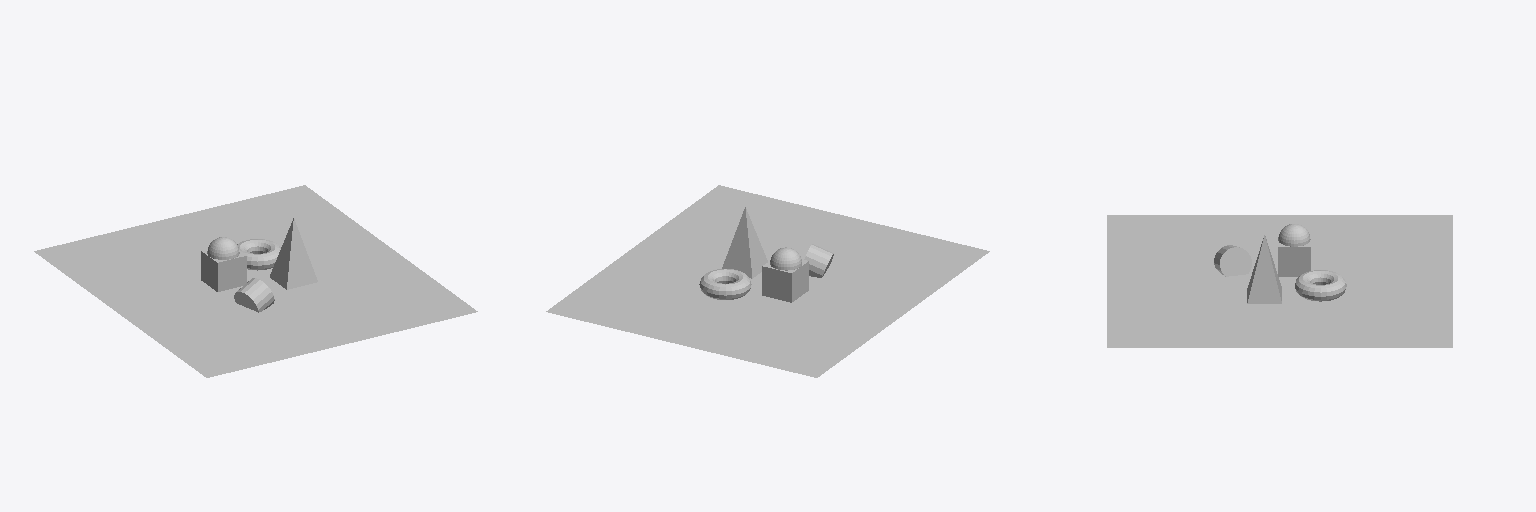
The model's file is shadow_test2.obj.
3 renders of one model, left to right at view 1: azimuth 30°, elevation 25°; view 2: azimuth 150°, elevation 25°; view 3: azimuth 270°, elevation 25°, orthographic.
Parts seen in each view (by area): view 1: Plane001, Pyramid001, Box001, Torus001, Cylinder001, Sphere001; view 2: Plane001, Pyramid001, Box001, Torus001, Cylinder001, Sphere001; view 3: Plane001, Pyramid001, Torus001, Box001, Cylinder001, Sphere001.
Part boxes in pixels (x1,y1,x2,y2): Plane001: (34,185,477,377); Pyramid001: (270,218,317,289); Box001: (201,249,246,291); Torus001: (237,239,280,270); Cylinder001: (234,278,274,312); Sphere001: (207,237,239,259); Plane001: (546,185,989,377); Pyramid001: (722,207,767,278); Box001: (762,259,808,302); Torus001: (699,269,751,299); Cylinder001: (804,244,833,277); Sphere001: (770,247,801,270); Plane001: (1107,215,1452,347); Pyramid001: (1247,235,1281,303); Torus001: (1295,270,1346,301); Box001: (1278,233,1310,276); Cylinder001: (1214,245,1251,276); Sphere001: (1278,224,1310,246).
Size of the model in its own units: 8.96 by 2.31 by 9.9.